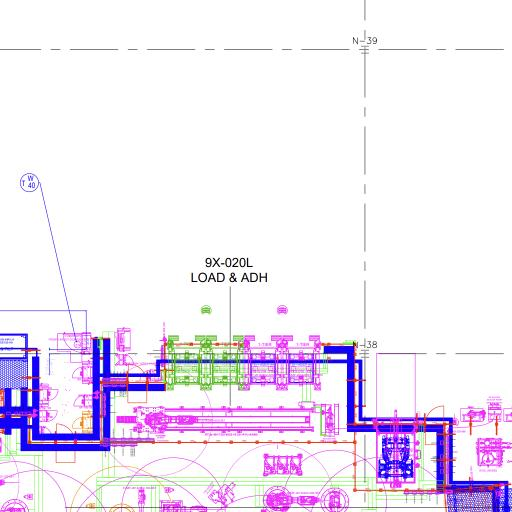robot: (136, 405, 199, 436)
